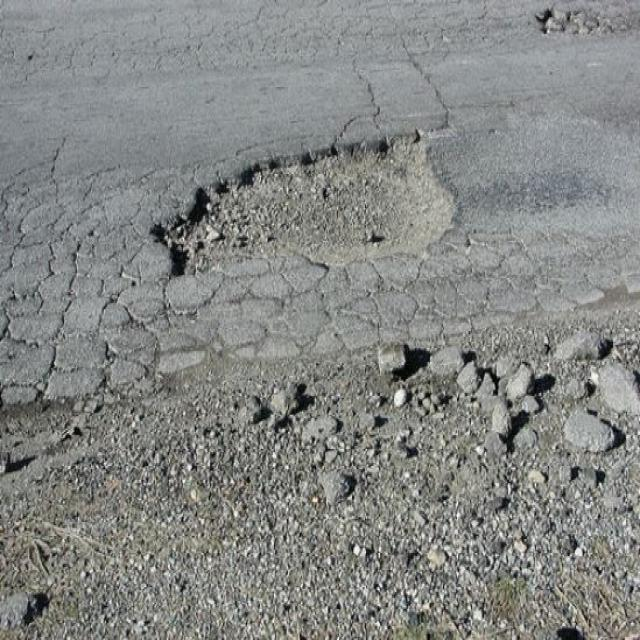Pothole: (147, 124, 478, 280)
